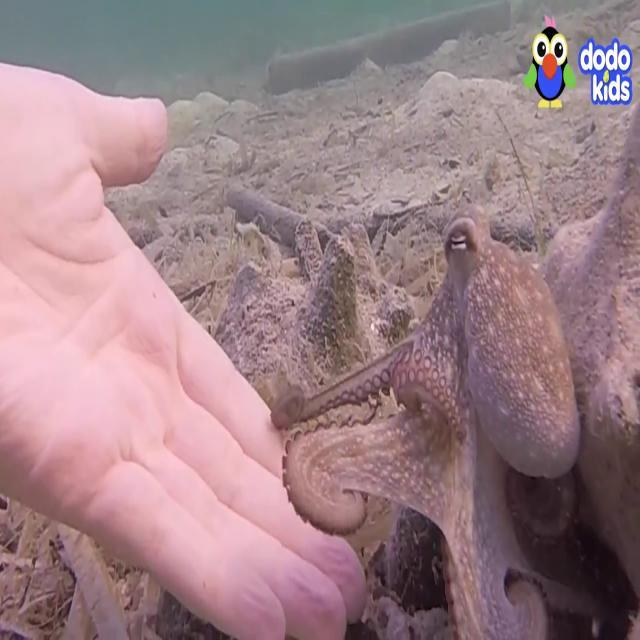octopus: (268, 91, 640, 640)
